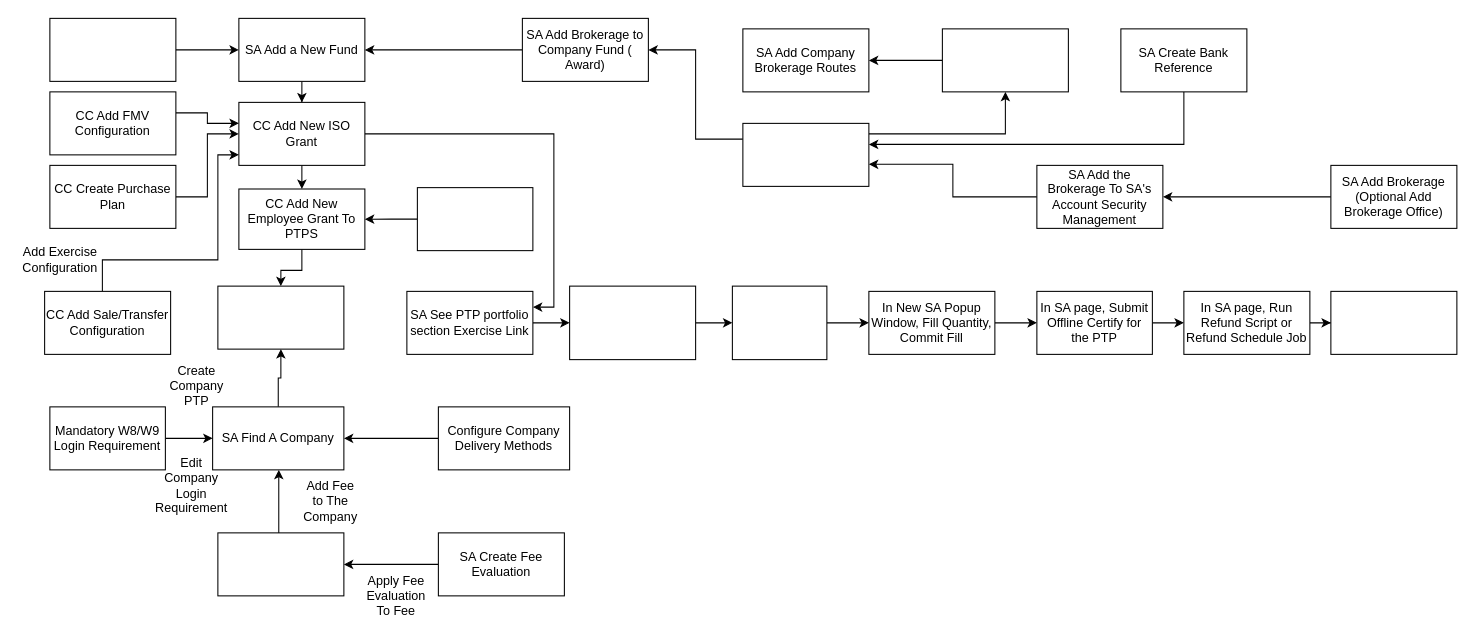
Image size: 1475x636. Some labels were removed from this diagram. The shapes that lost their labels are listed below. From the top down, each one's centre as x and y in pixels, then its label:
the point at 112,49: CC Add Share Pool
the point at 1004,60: SA Add Company Disbursement Account
the point at 805,154: SA Add Company Brokerage Account
the point at 474,219: CC Create Vesting Schedule
the point at 280,317: CC Create PTPs
the point at 632,322: Log in SA or PTP click Exercise Link to Submit Exercise
the point at 779,322: SA -> Tools -> Exercise Book -> find transaction reference
the point at 1393,322: In SA page, Observe the Refund
the point at 280,564: SA Create Fee
